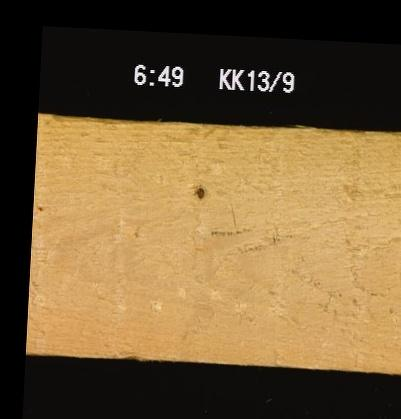dry_knot: (192, 183, 204, 201)
